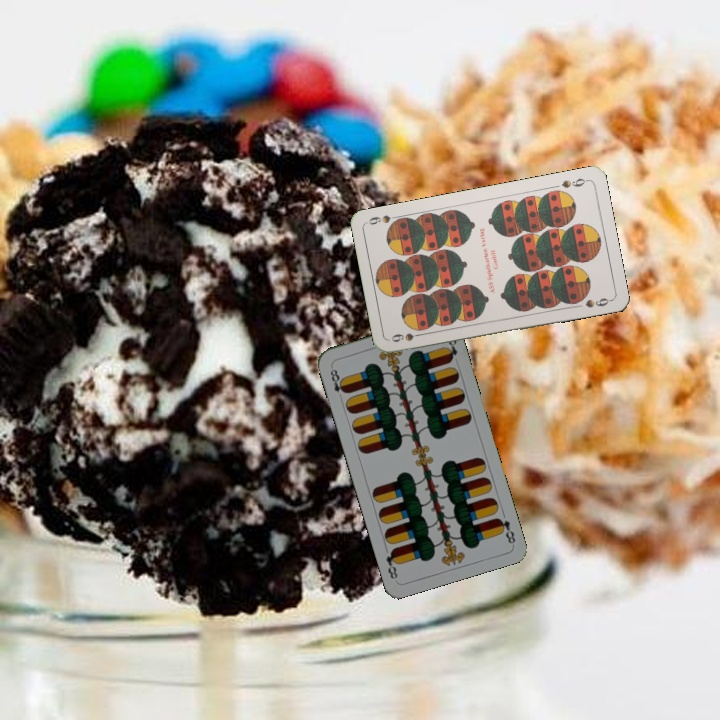E8: (326, 362, 349, 402), (493, 514, 518, 546)
S9: (387, 329, 428, 345), (558, 174, 590, 191)
